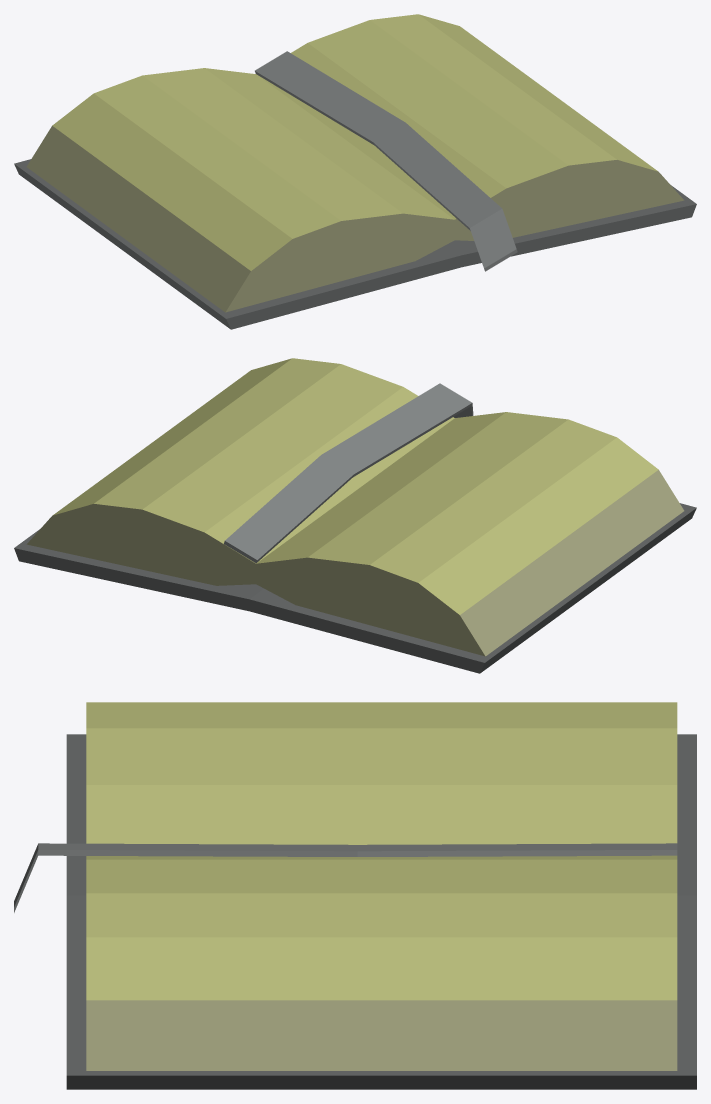
The model's file is Book_3_Gray.fbx.
3 views of the same model, one above another, from view 1: azimuth 30°, elevation 25°; view 2: azimuth 150°, elevation 25°; view 3: azimuth 270°, elevation 25° (orthographic). The views are drawn at different scales.
Parts seen in each view (by area): view 1: Book_3_Gray_Part_2, Book_3_Gray_Part_1, Book_3_Gray_Part_4, Book_3_Gray_Part_3; view 2: Book_3_Gray_Part_2, Book_3_Gray_Part_1, Book_3_Gray_Part_3, Book_3_Gray_Part_4; view 3: Book_3_Gray_Part_2, Book_3_Gray_Part_1, Book_3_Gray_Part_3, Book_3_Gray_Part_4.
Part boxes in pixels (x1,y1,x2,y2): Book_3_Gray_Part_2: [52, 14, 657, 270]; Book_3_Gray_Part_1: [26, 126, 684, 312]; Book_3_Gray_Part_4: [255, 51, 517, 271]; Book_3_Gray_Part_3: [14, 159, 696, 329]; Book_3_Gray_Part_2: [53, 358, 658, 614]; Book_3_Gray_Part_1: [26, 470, 684, 656]; Book_3_Gray_Part_3: [14, 503, 696, 673]; Book_3_Gray_Part_4: [224, 383, 473, 563]; Book_3_Gray_Part_2: [86, 702, 677, 1000]; Book_3_Gray_Part_1: [86, 1000, 677, 1070]; Book_3_Gray_Part_3: [66, 734, 696, 1089]; Book_3_Gray_Part_4: [14, 843, 677, 912].
Bounding box in the file's own units: 41 × 6.27 × 34.68.
